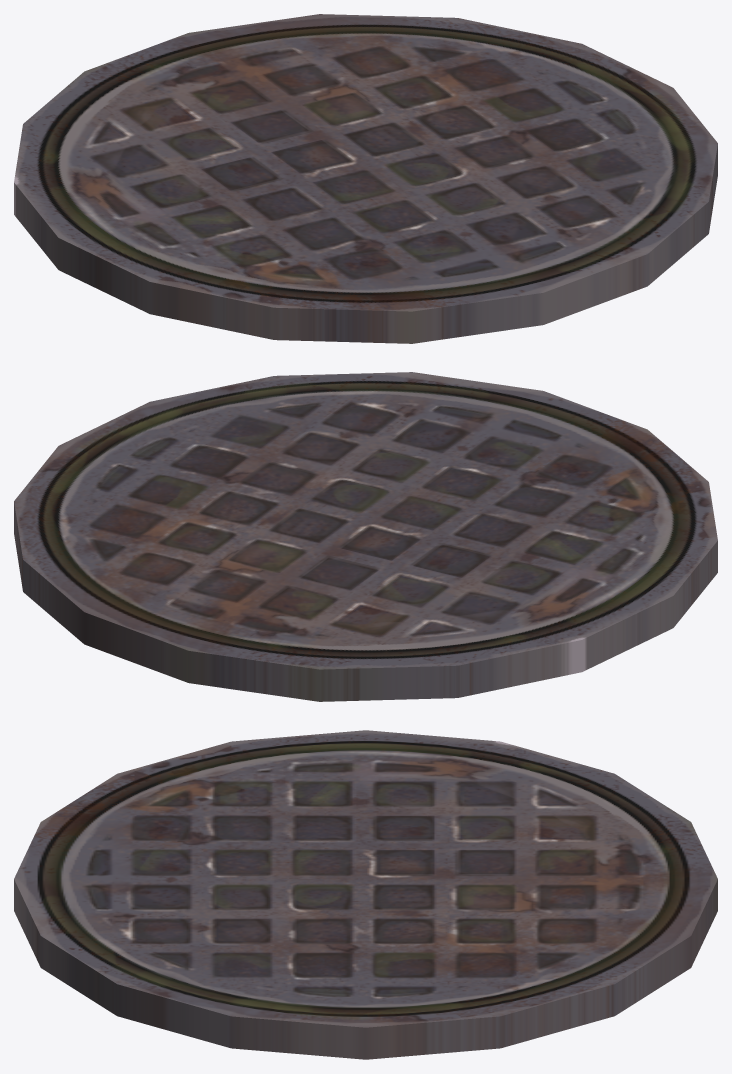
The model's file is TRF0210031.fbx.
3 renders of one model, top to bottom at view 1: azimuth 30°, elevation 25°; view 2: azimuth 150°, elevation 25°; view 3: azimuth 270°, elevation 25°, orthographic.
Visible parts, largest first — view 1: smTRF0210031; view 2: smTRF0210031; view 3: smTRF0210031.
Boxes of the visible parts, left/top/right/bottom form: smTRF0210031: left=14, top=14, right=717, bottom=343; smTRF0210031: left=14, top=372, right=717, bottom=701; smTRF0210031: left=14, top=730, right=717, bottom=1059.
Bounding box in the file's own units: 99.61 × 5 × 99.61.
Materials: 1 (1 with a texture image).
